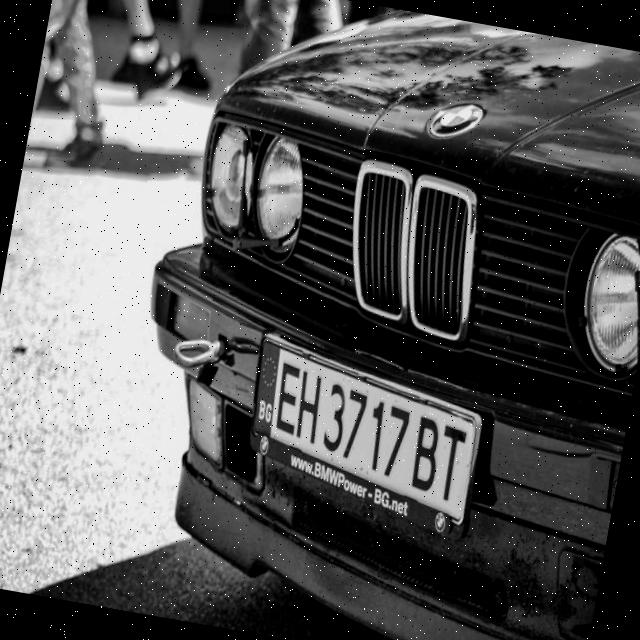EU: (251, 339, 486, 524), (246, 336, 290, 435)
